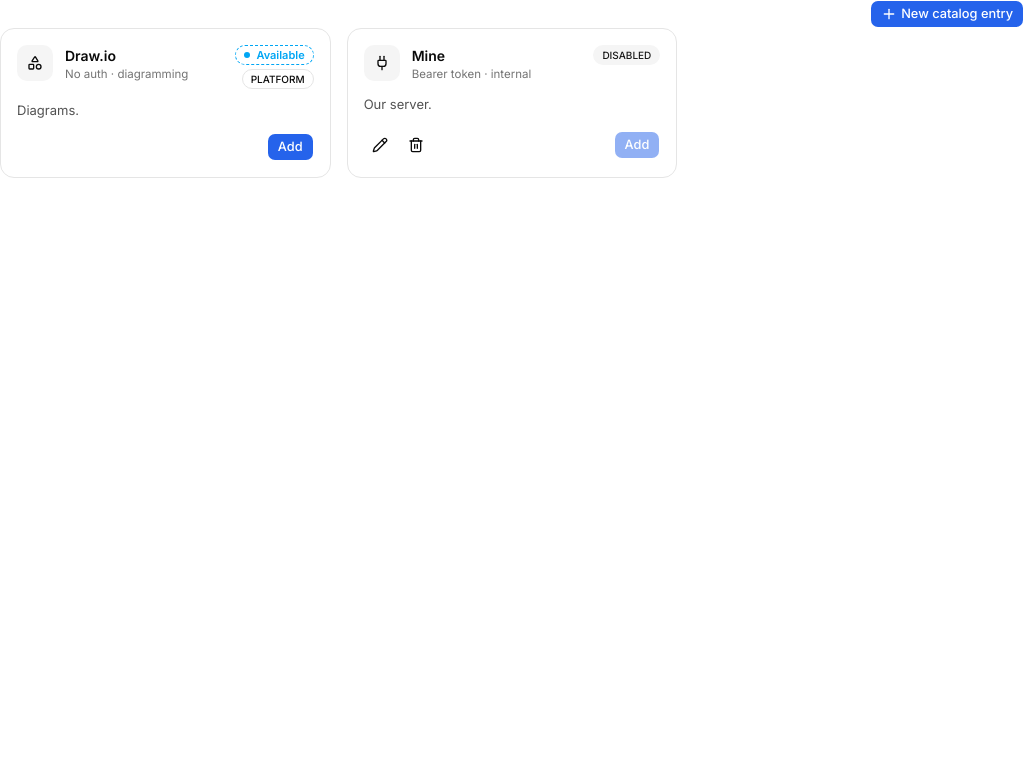
it: Catalog admin controls › shows the server error and keeps the form open
Click the button named "Edit Mine".
click(380, 144)  # box [364, 128, 396, 160]
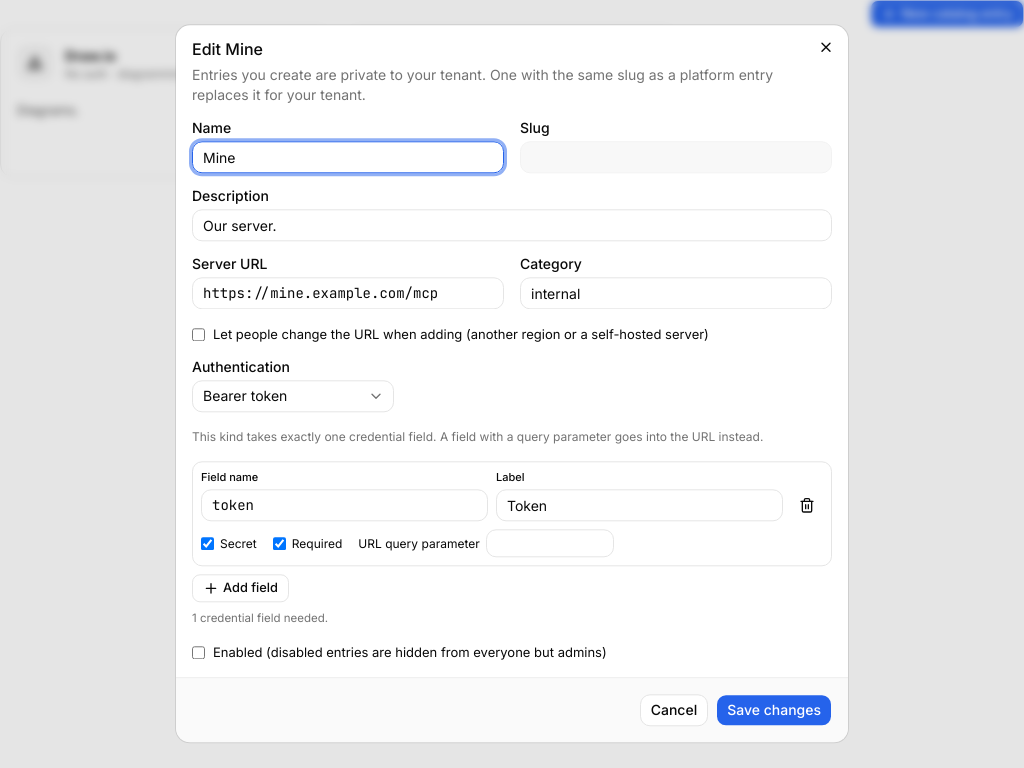
Click the button "Save changes".
click(774, 711)  # box [716, 695, 832, 727]
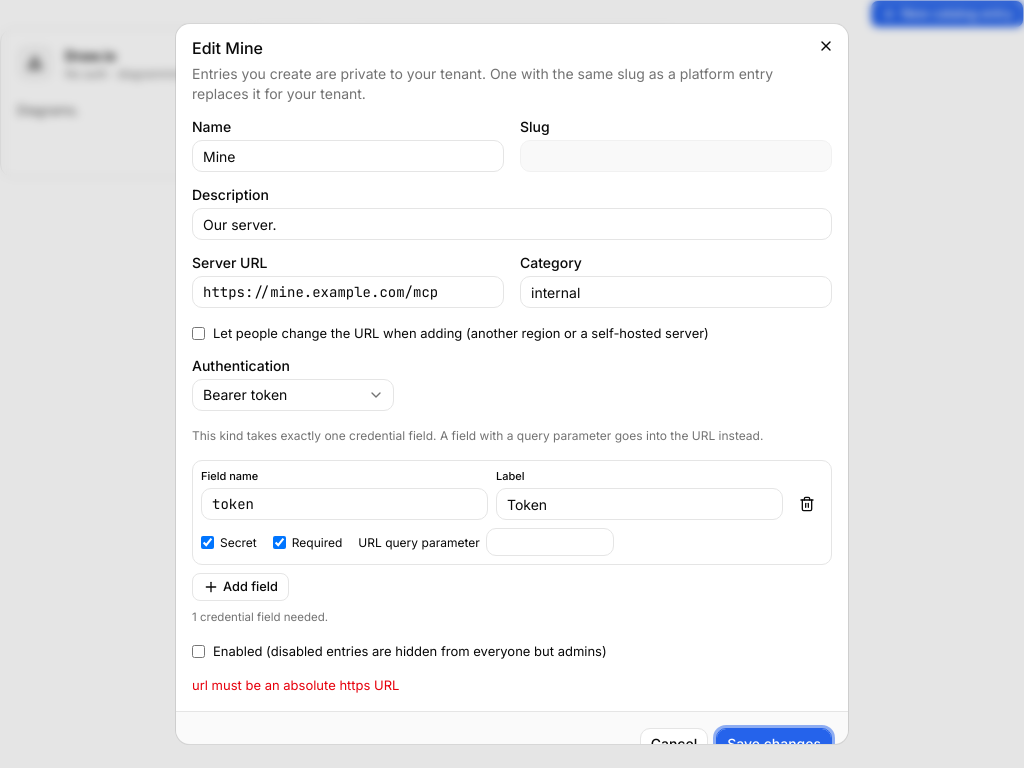
Expected: the dialog is shown
Expected: the message reads "url must be an absolute https URL", [192, 677, 400, 693]
